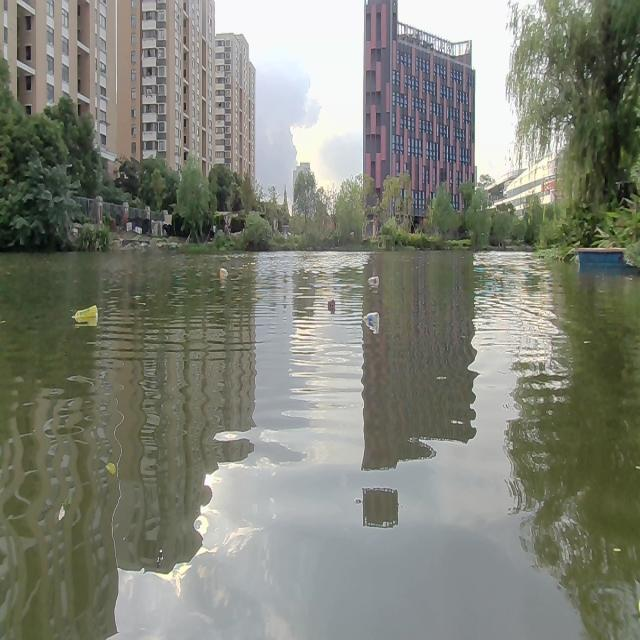bottle: (70, 303, 100, 325), (360, 309, 380, 328), (218, 263, 229, 277), (323, 297, 335, 308), (368, 273, 378, 283)
